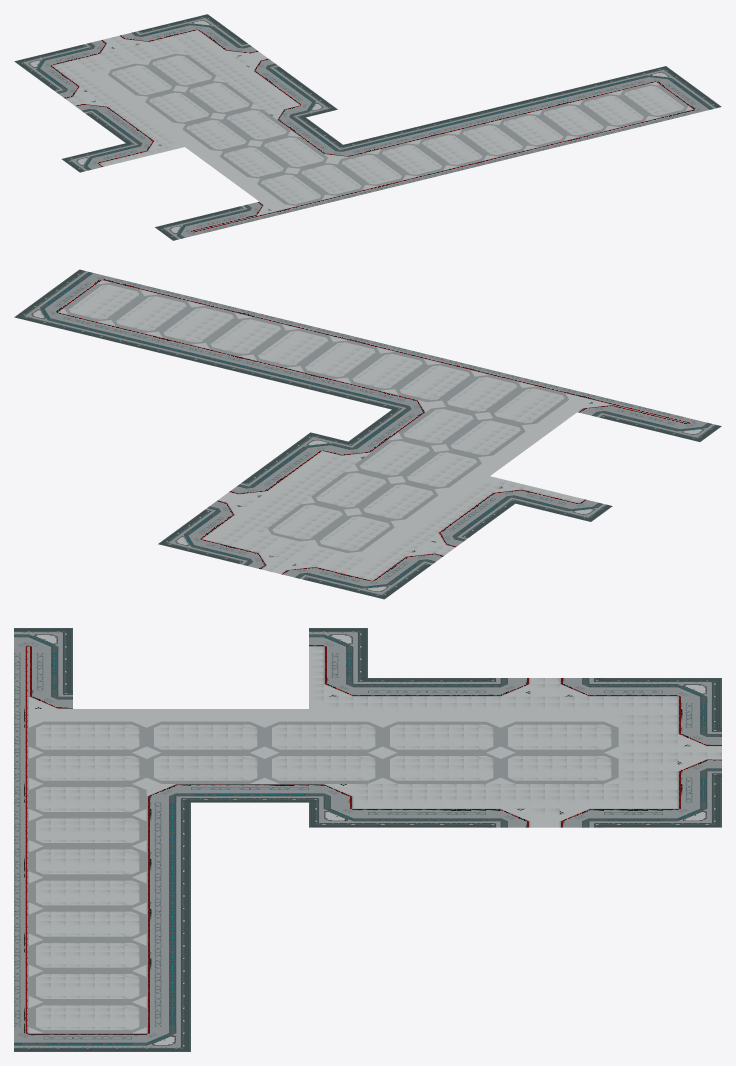
Rendered from Hangar1.fbx.
3 renders of one model, top to bottom at view 1: azimuth 30°, elevation 25°; view 2: azimuth 150°, elevation 25°; view 3: azimuth 270°, elevation 25°, orthographic. The views are drawn at different scales.
Parts seen in each view (by area): view 1: SolHangar; view 2: SolHangar; view 3: SolHangar.
Part boxes in pixels (x1=…): SolHangar: x1=14, y1=14, x2=721, y2=240; SolHangar: x1=14, y1=269, x2=721, y2=599; SolHangar: x1=14, y1=628, x2=721, y2=1051.
Size of the model in its own units: 5100 by 3600 by 25.
